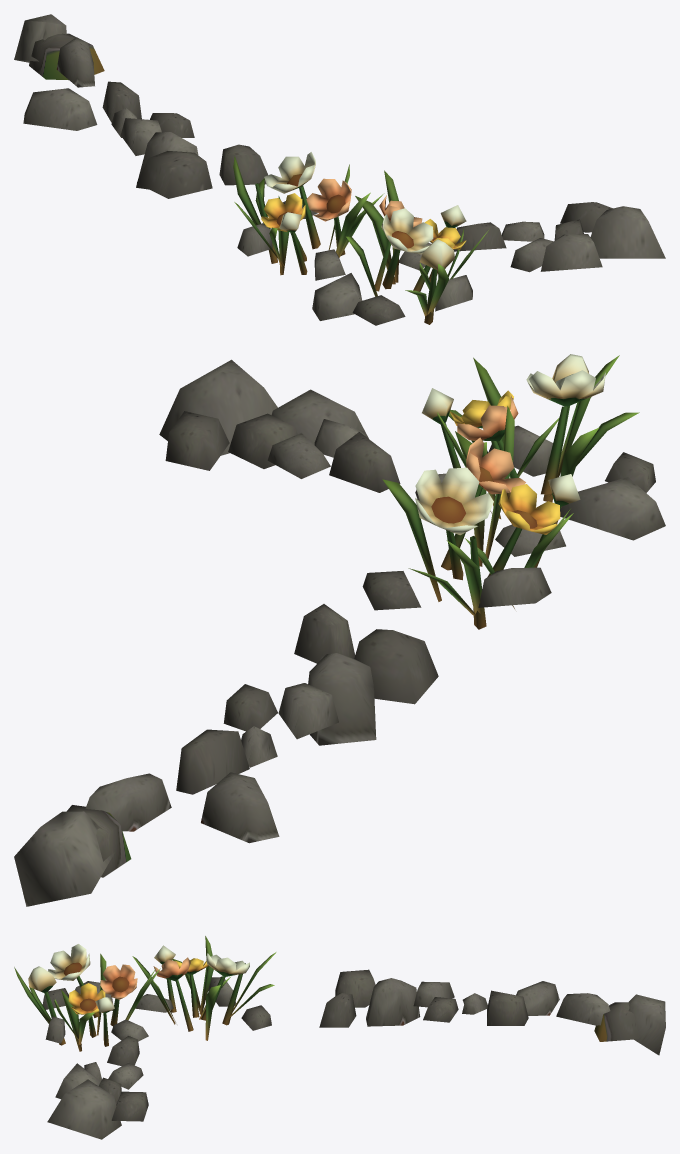
The model's file is flower_WH01_V01.FBX.
The picture shows the model from 3 angles, top to bottom: view 1: azimuth 30°, elevation 25°; view 2: azimuth 150°, elevation 25°; view 3: azimuth 270°, elevation 25°; orthographic projection. The views are drawn at different scales.
Parts seen in each view (by area): view 1: flower_WH01_V01; view 2: flower_WH01_V01; view 3: flower_WH01_V01.
Part boxes in pixels (bbox=[...]): flower_WH01_V01: bbox=[14, 14, 665, 325]; flower_WH01_V01: bbox=[14, 354, 665, 906]; flower_WH01_V01: bbox=[14, 936, 665, 1139].
Size of the model in its own units: 1.42 by 0.4676 by 2.78.
